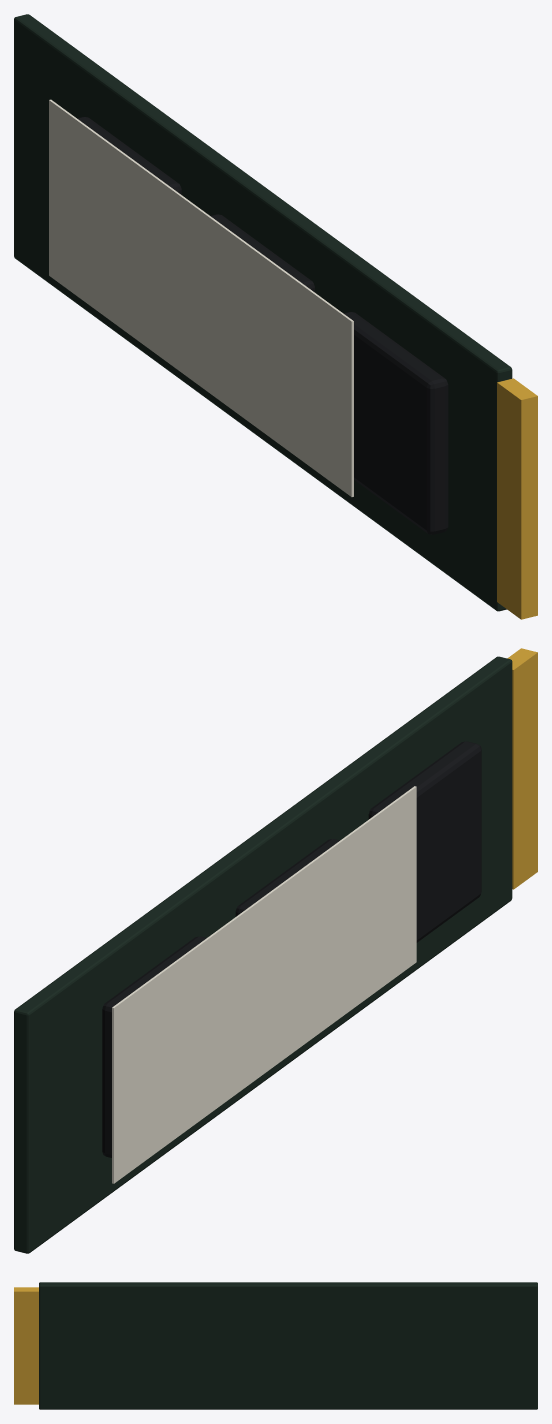
The model's file is ssd.glb.
3 views of the same model, one above another, from view 1: azimuth 30°, elevation 25°; view 2: azimuth 150°, elevation 25°; view 3: azimuth 270°, elevation 25° (orthographic). The views are drawn at different scales.
Visible parts, largest first — view 1: ssd; view 2: ssd; view 3: ssd.
Boxes of the visible parts, <box> form: ssd: <box>14,14,537,619</box>; ssd: <box>14,648,537,1253</box>; ssd: <box>14,1282,537,1409</box>.
Bounding box in the file's own units: 0.039 × 0.22 × 0.84.
